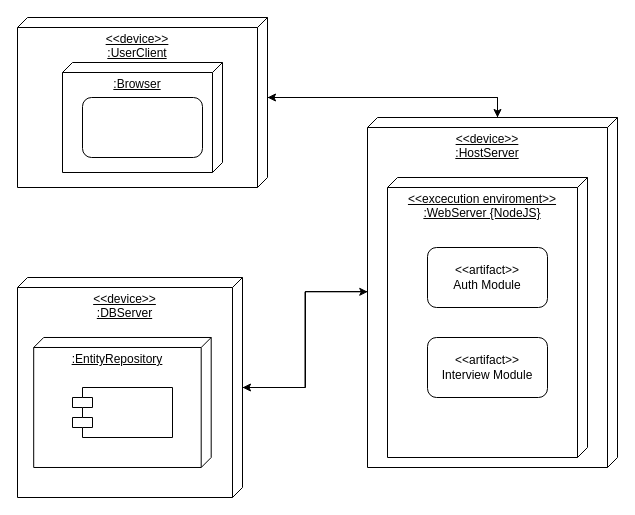
This 635x515 diagram has some shape labels left out. Each missing label, with the centre of its shape:
"<<artifact>> React.ts" goes at (x=142, y=127).
"PostgreSQL" goes at (x=122, y=412).
